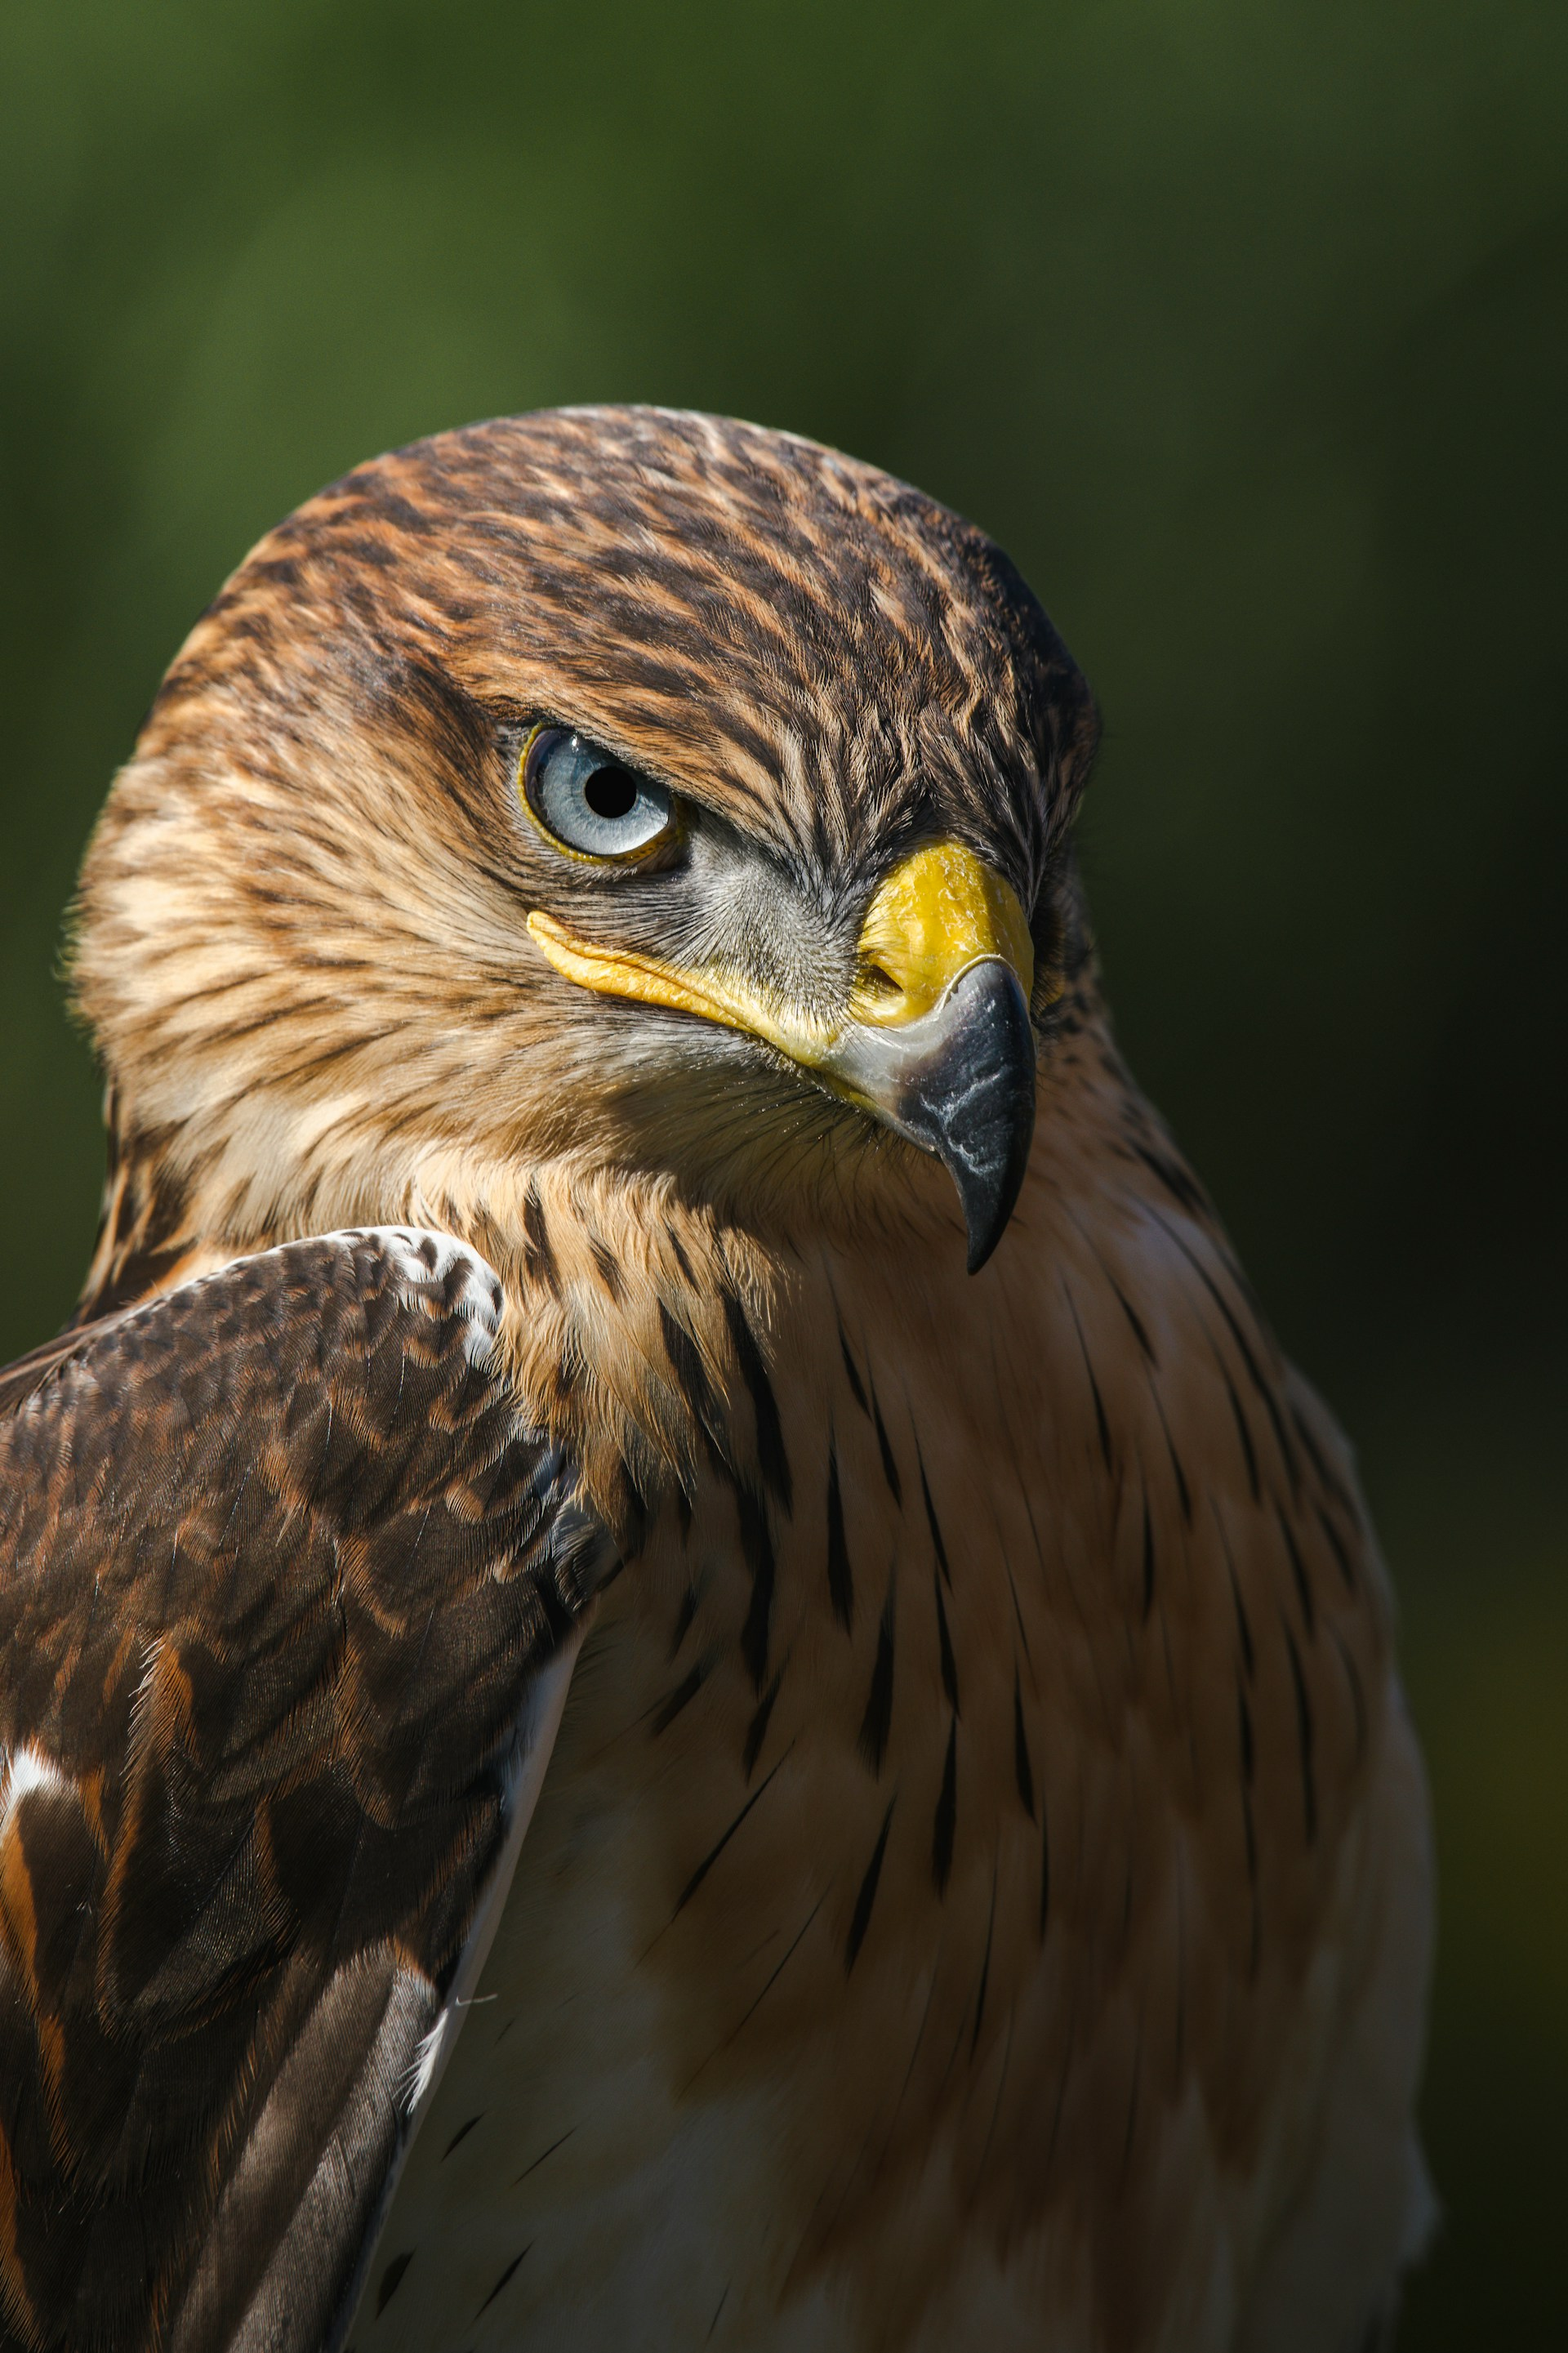eagle: (0, 385, 1458, 2353)
